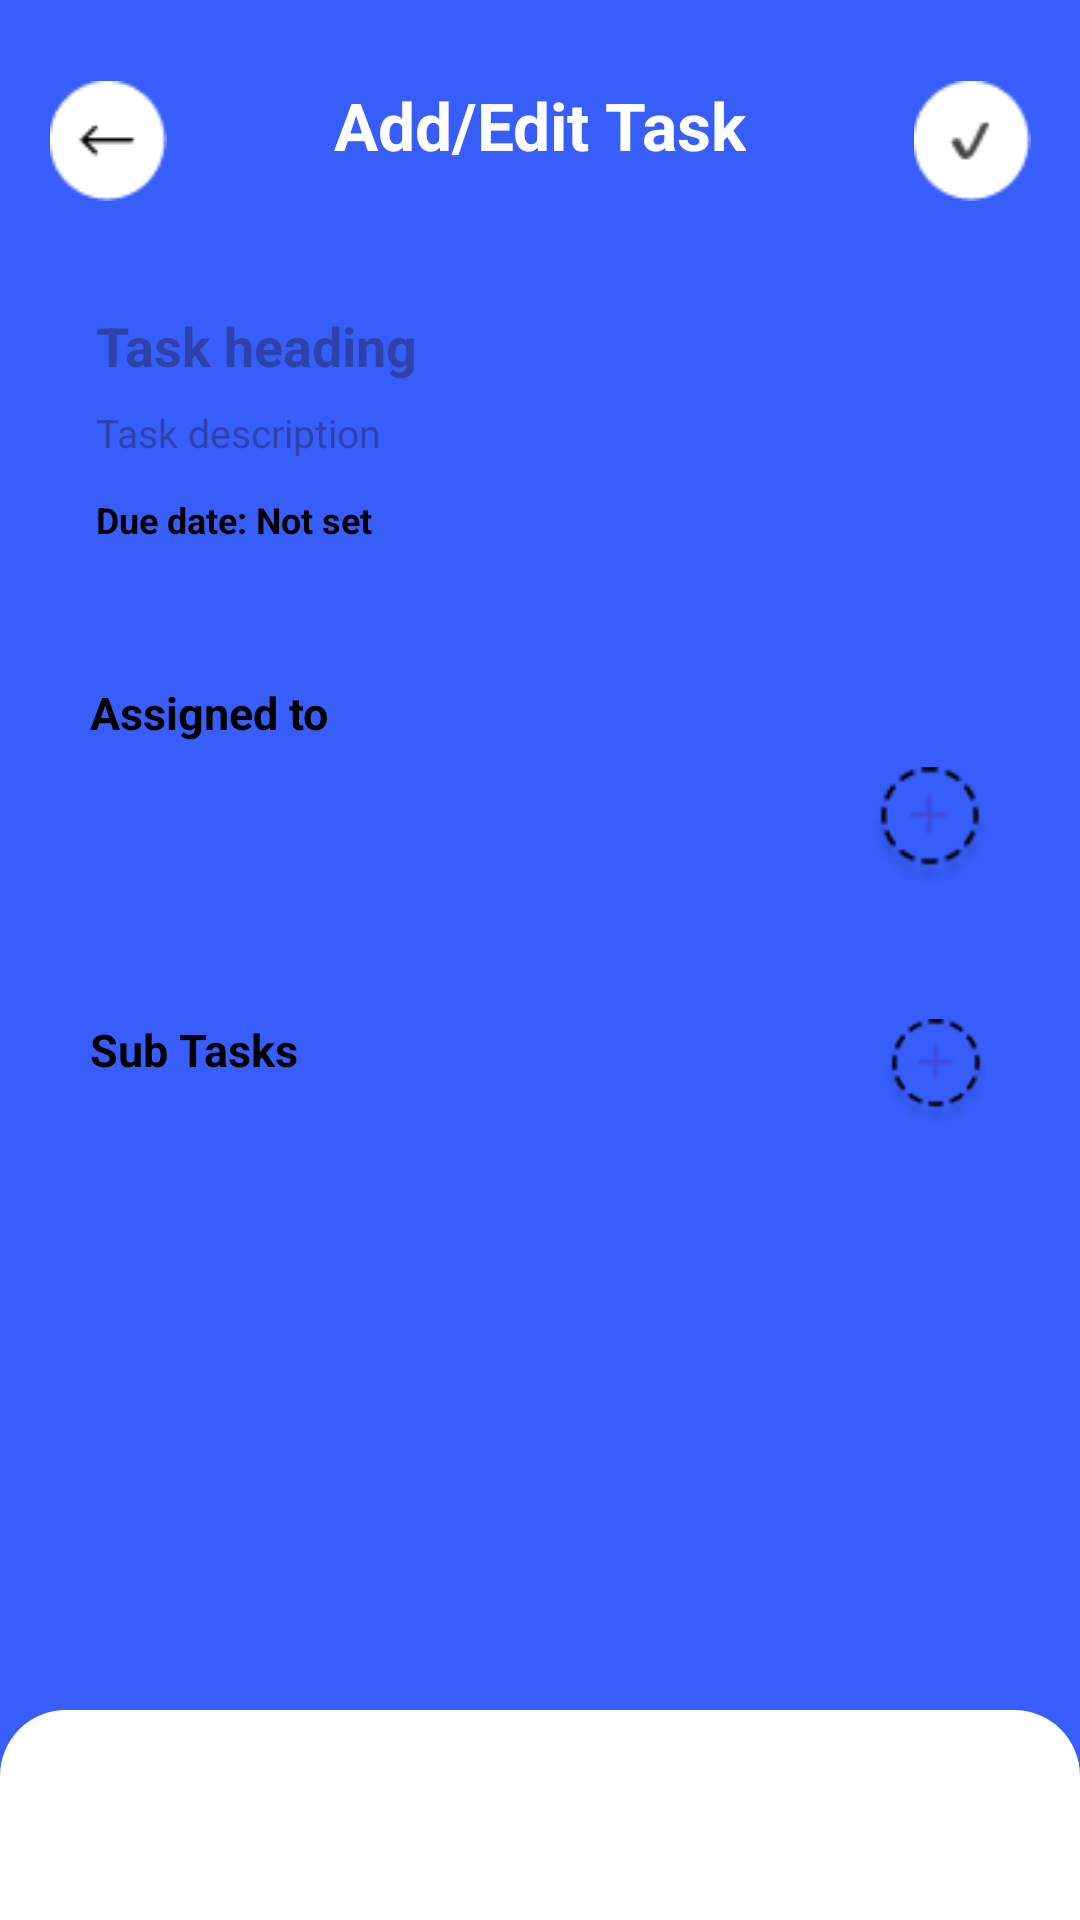

Where icons sit on this 1080w x 1920h app screen, as (x1, y1, x2, y2):
add dotted: (880, 767, 980, 865), (891, 1019, 981, 1108)
back arrow: (50, 81, 167, 201)
save tick: (914, 81, 1031, 201)
